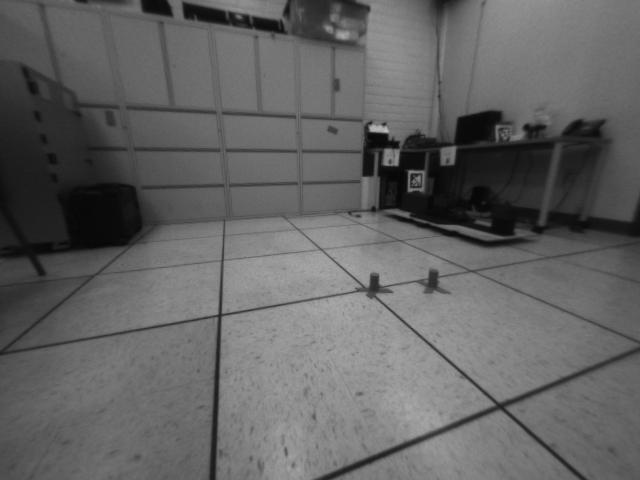X: (354, 269, 394, 299), (415, 268, 453, 295)
